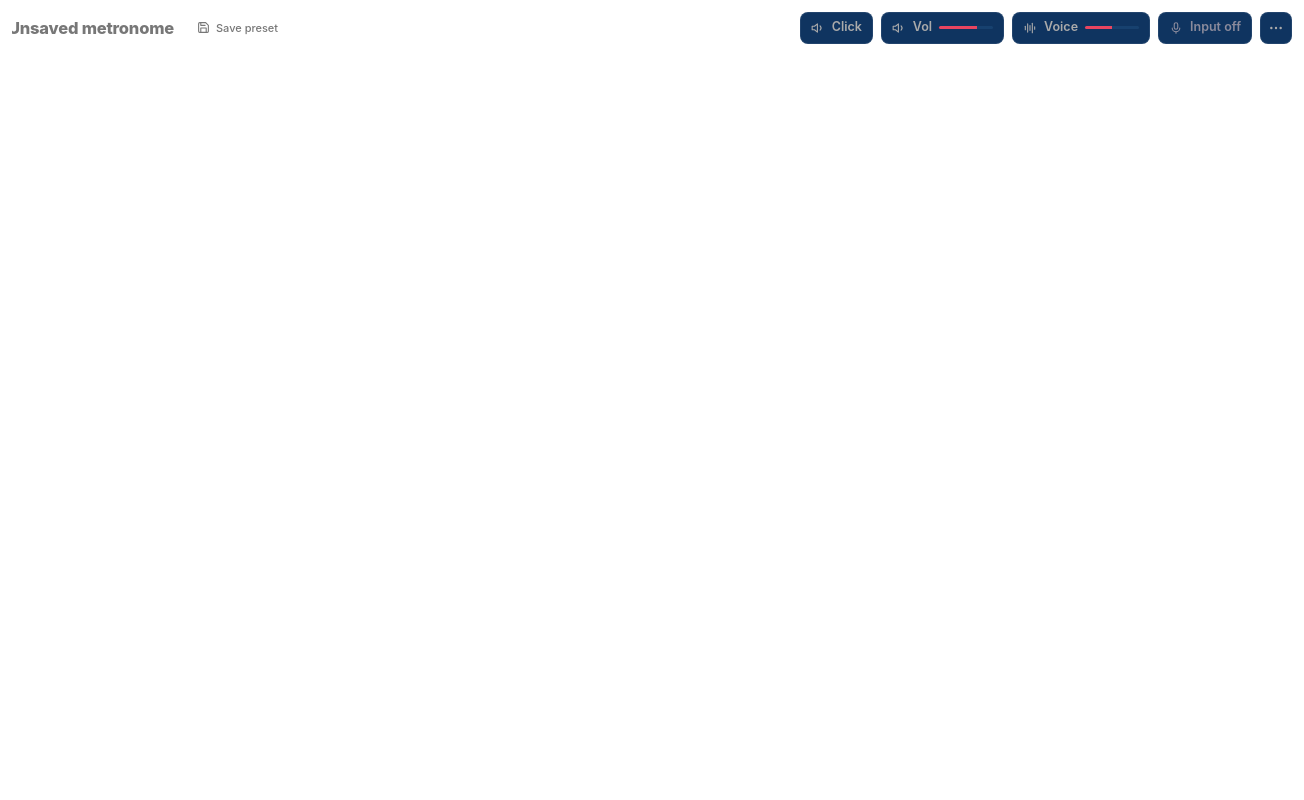
Test: MainHeader — the overflow › closes on a click outside it
This screenshot has width=1304, height=800.
Step 1. Click the button named "More" → x=1276, y=28, box 1260,12 -> 1292,44
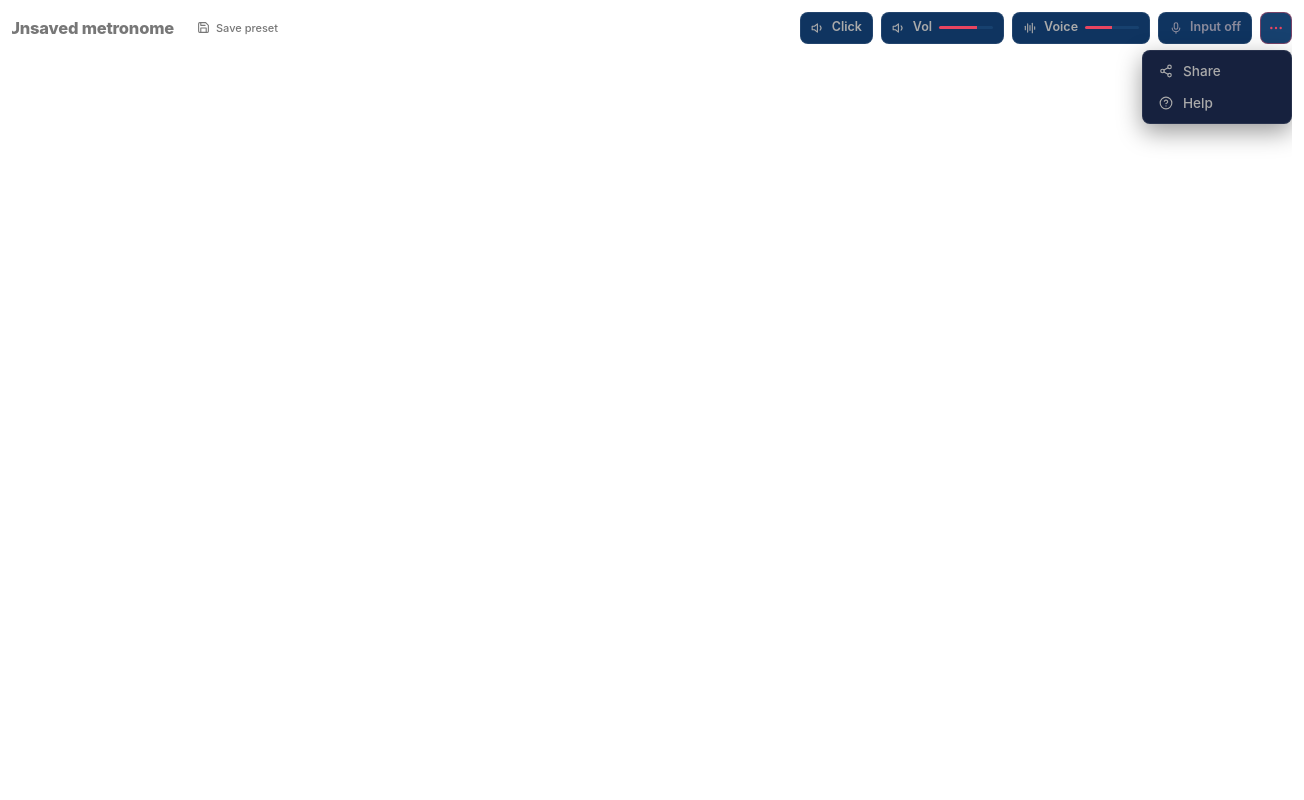
Step 2. Press the mouse on the element that starts with "Unsaved metronome" → x=652, y=400, box 12,0 -> 1292,799
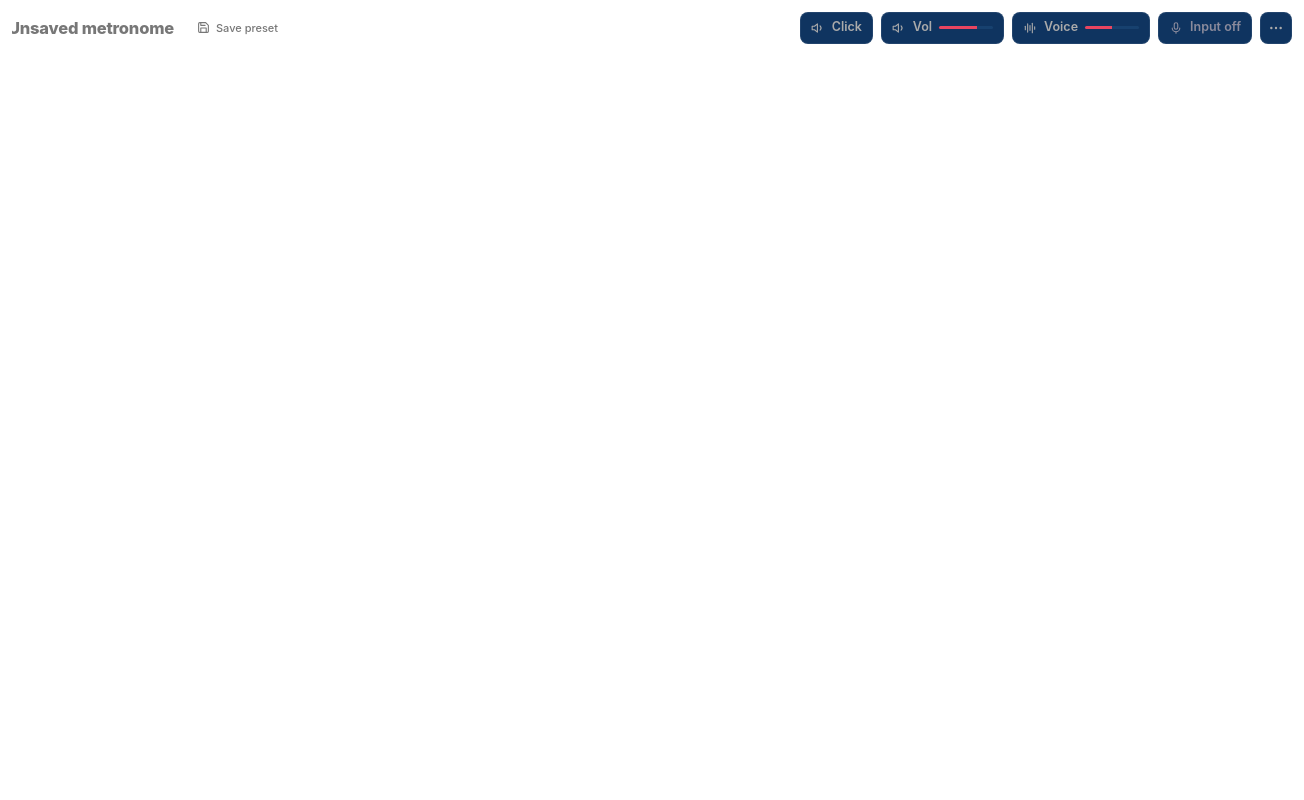
Result: the menu item "Share" is gone
